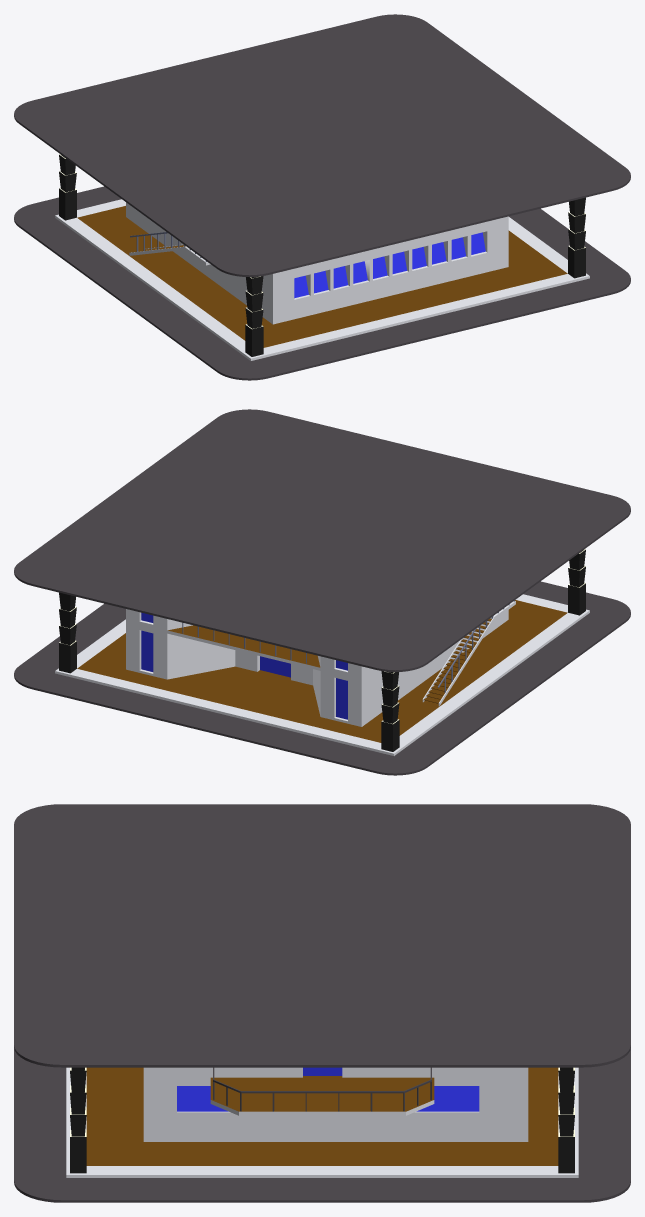
Rendered from SM_B_i8_Mid.fbx.
3 views of the same model, one above another, from view 1: azimuth 30°, elevation 25°; view 2: azimuth 150°, elevation 25°; view 3: azimuth 270°, elevation 25° (orthographic). The views are drawn at different scales.
Visible parts, largest first — view 1: SM_B_i8_Mid; view 2: SM_B_i8_Mid; view 3: SM_B_i8_Mid.
Boxes of the visible parts, x1,y1,x2,y2 form: SM_B_i8_Mid: (14, 14, 630, 380); SM_B_i8_Mid: (14, 409, 630, 775); SM_B_i8_Mid: (14, 804, 630, 1202).
Bounding box in the file's own units: 2100 × 518 × 2100.
